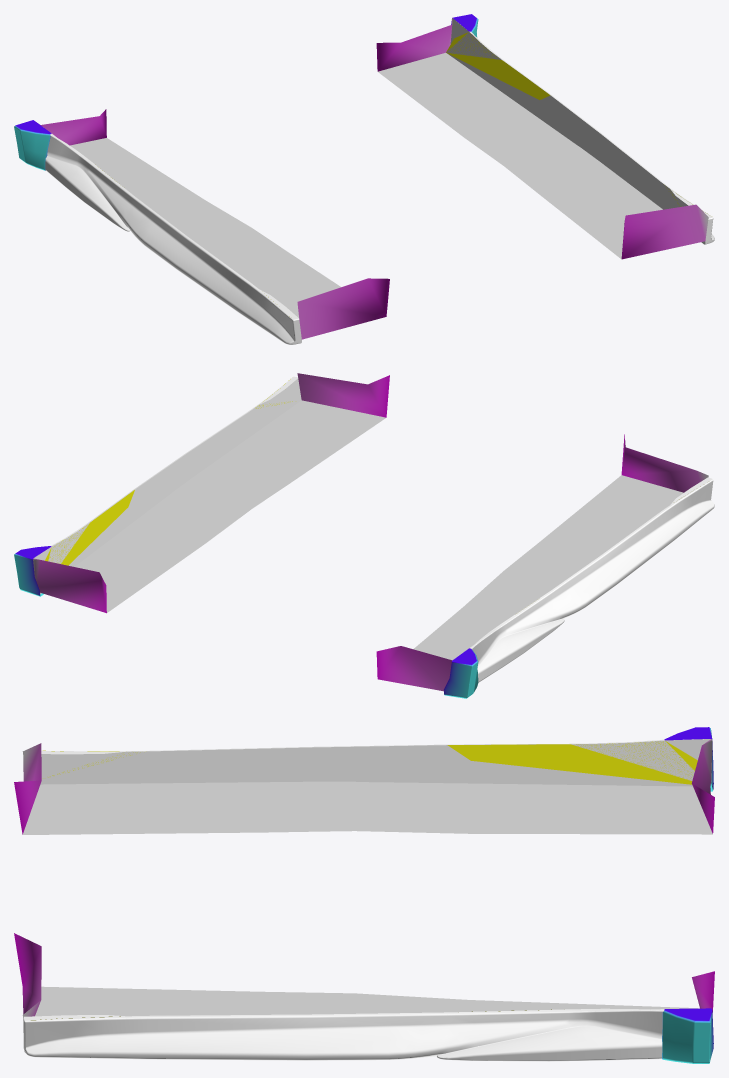
File: Car_Mini_CountrymanJCW_2017_Skirts_SetF_AltB.fbx
The picture shows the model from 3 angles, top to bottom: view 1: azimuth 30°, elevation 25°; view 2: azimuth 150°, elevation 25°; view 3: azimuth 270°, elevation 25°; orthographic projection. The views are drawn at different scales.
Parts seen in each view (by area): view 1: Skirts 6; view 2: Skirts 6; view 3: Skirts 6.
Boxes of the visible parts, x1,y1,x2,y2 form: Skirts 6: (14,14,714,344); Skirts 6: (14,373,714,698); Skirts 6: (14,727,714,1063).
Size of the model in its own units: 1.89 by 0.1912 by 1.9.
